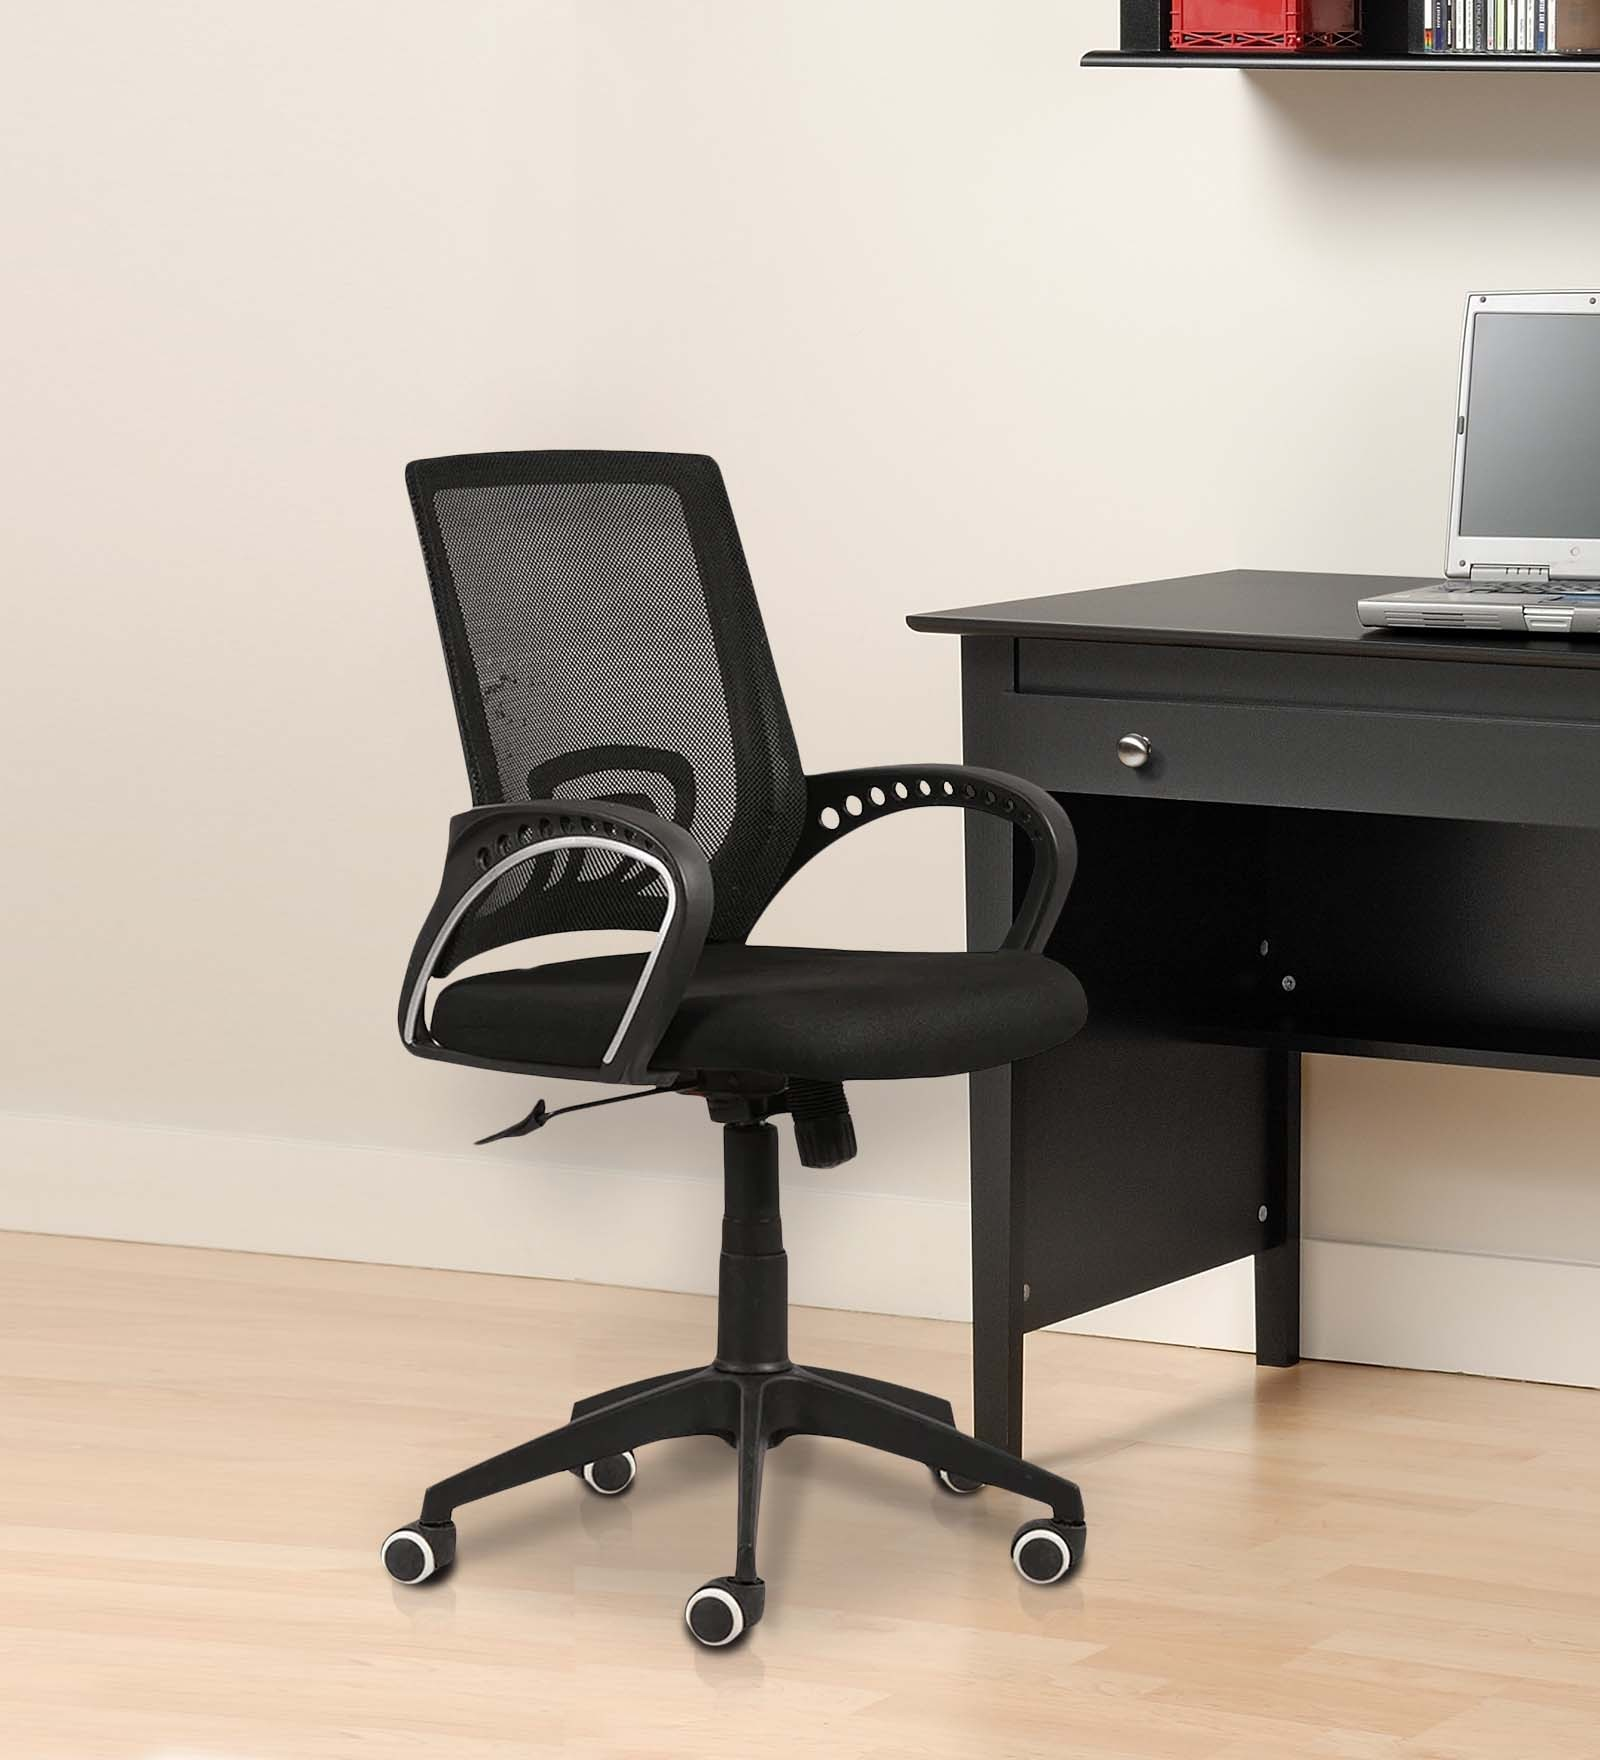Atria Medium Back Ergonomic Chair in Black Colour by Parin: (357, 406, 1114, 1680)
